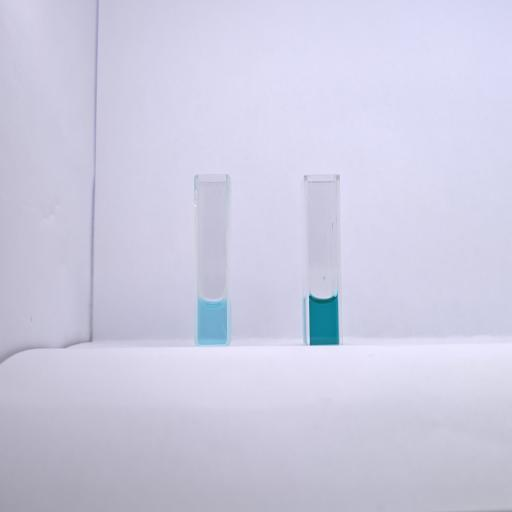cuvette: (192, 172, 234, 348), (302, 172, 344, 348)
liquid: (310, 296, 339, 342), (198, 298, 226, 344)
